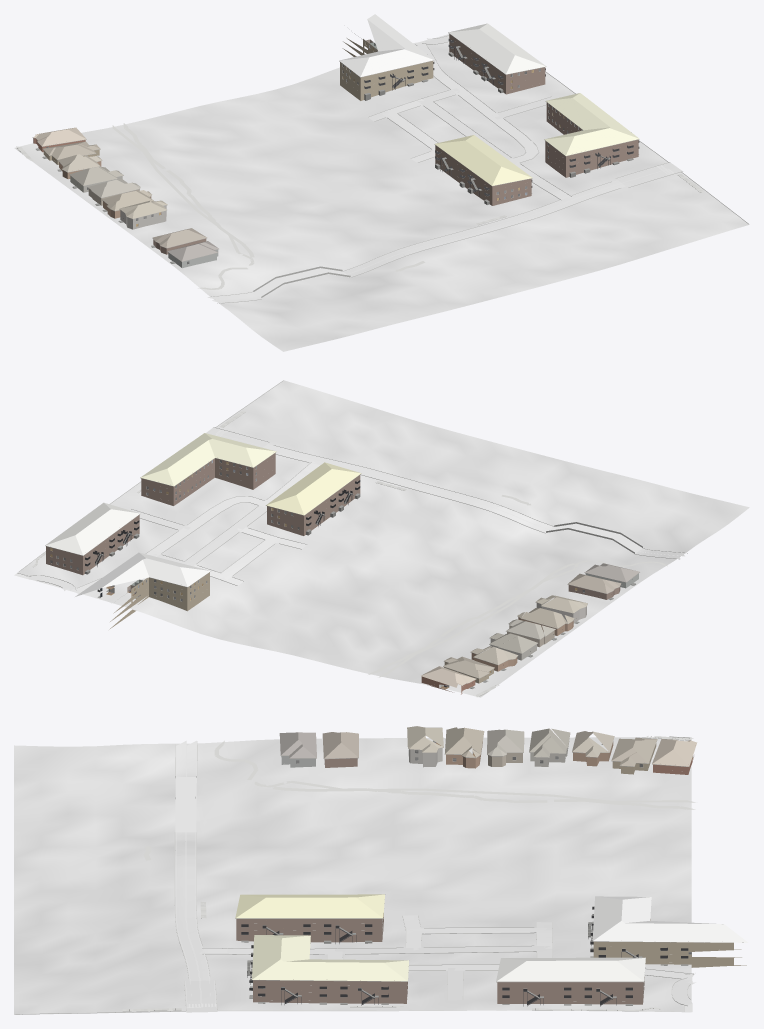
3 renders of one model, top to bottom at view 1: azimuth 30°, elevation 25°; view 2: azimuth 150°, elevation 25°; view 3: azimuth 270°, elevation 25°, orthographic. The views are drawn at different scales.
Visible parts, largest first — view 1: ground, roof, wall, concrete, asphalt, detail, curb, walk, rail; view 2: ground, roof, wall, concrete, asphalt, curb, detail, walk; view 3: ground, roof, wall, asphalt, concrete, walk, detail, curb, rail, wall_stucco, mark_w.
Boxes of the visible parts, x1=… form: ground: x1=14, y1=34, x2=749, y2=351; roof: x1=33, y1=14, x2=639, y2=261; wall: x1=33, y1=34, x2=638, y2=254; concrete: x1=368, y1=36, x2=572, y2=199; asphalt: x1=207, y1=162, x2=682, y2=302; detail: x1=32, y1=32, x2=639, y2=264; curb: x1=17, y1=35, x2=748, y2=303; walk: x1=16, y1=123, x2=704, y2=289; rail: x1=364, y1=39, x2=639, y2=195; ground: x1=18, y1=380, x2=749, y2=697; roof: x1=45, y1=433, x2=639, y2=687; wall: x1=46, y1=453, x2=620, y2=694; concrete: x1=14, y1=461, x2=320, y2=593; asphalt: x1=206, y1=427, x2=684, y2=559; curb: x1=17, y1=380, x2=687, y2=696; detail: x1=45, y1=451, x2=639, y2=688; walk: x1=32, y1=410, x2=667, y2=697; ground: x1=14, y1=737, x2=691, y2=1014; roof: x1=235, y1=726, x2=748, y2=981; wall: x1=236, y1=742, x2=746, y2=1004; asphalt: x1=175, y1=740, x2=217, y2=1012; concrete: x1=199, y1=915, x2=695, y2=1012; walk: x1=122, y1=736, x2=695, y2=1011; detail: x1=235, y1=734, x2=743, y2=1006; curb: x1=15, y1=736, x2=693, y2=1014; rail: x1=241, y1=907, x2=688, y2=1004; wall_stucco: x1=281, y1=741, x2=569, y2=767; mark_w: x1=176, y1=743, x2=216, y2=1007.
Size of the model in its own units: 253 by 24.76 by 272.
